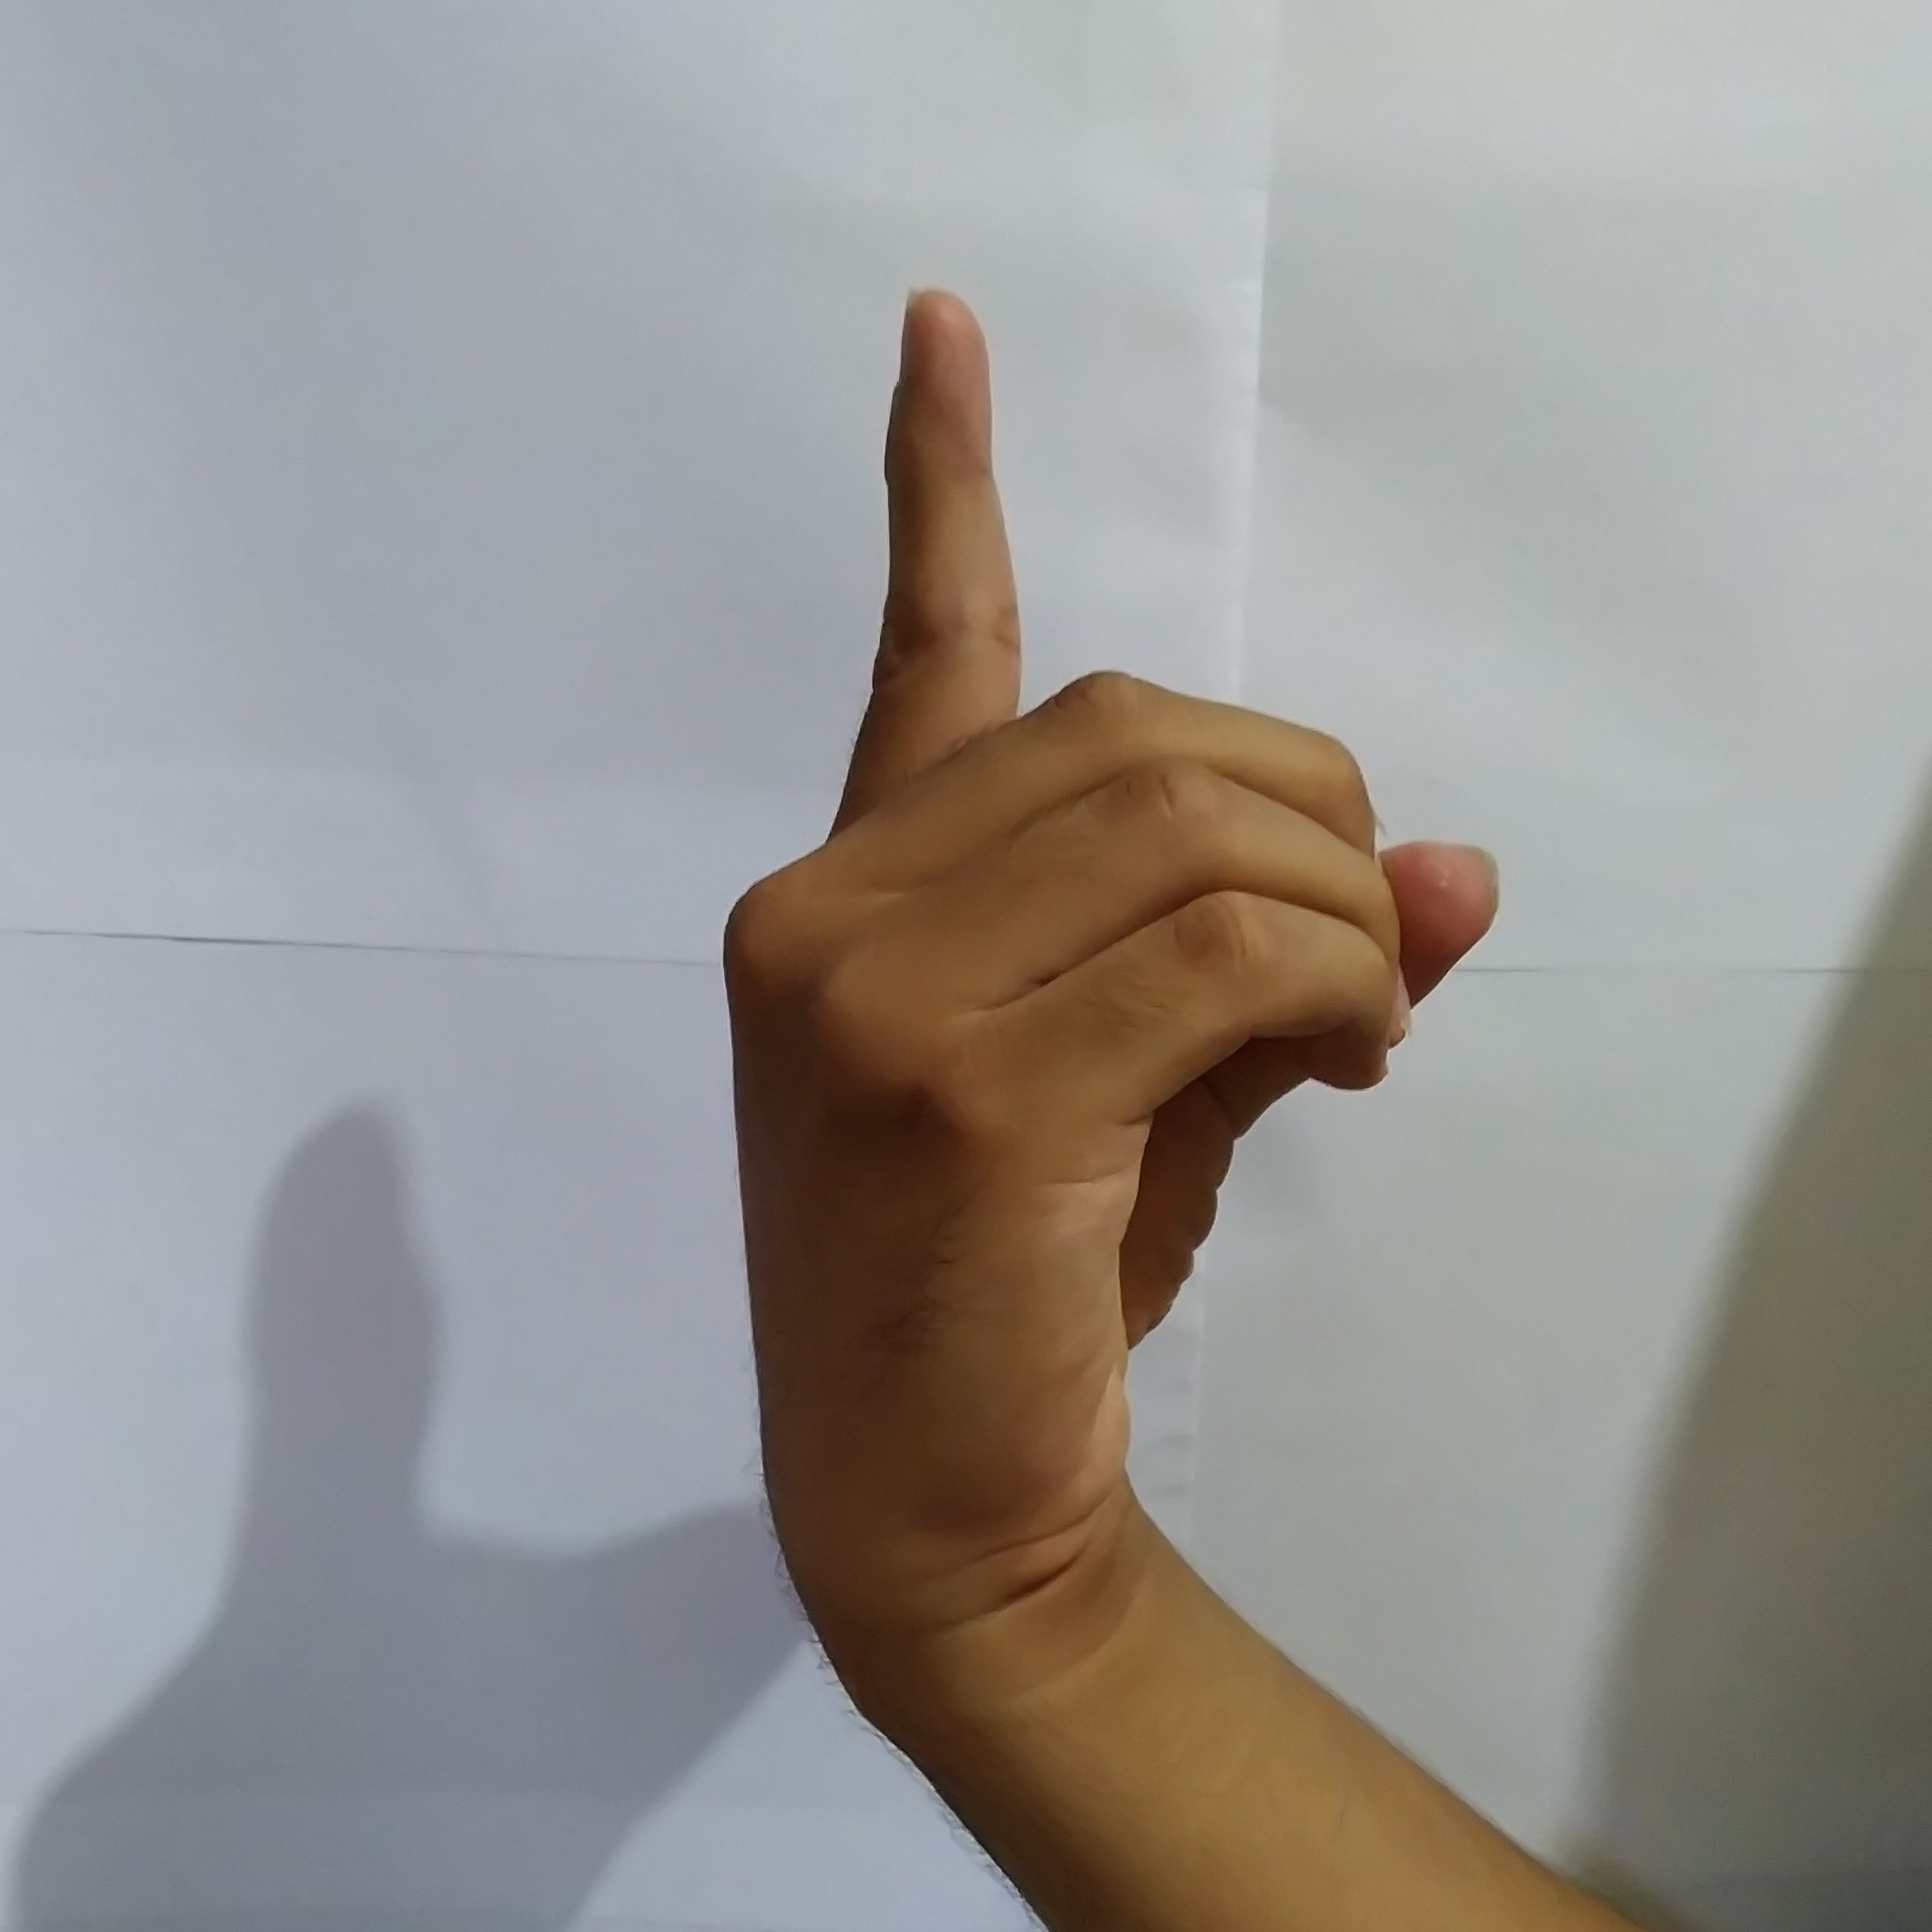D: (697, 260, 1522, 1520)
